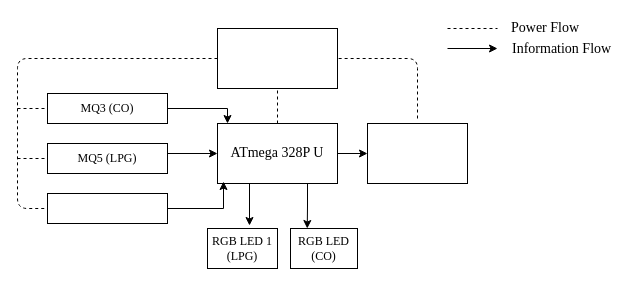
Image size: 638x286. Some labels were removed from this diagram. The shapes that lost their labels are listed below. From the top down, each one's centre as x and y in pixels, then its label:
At (x=277, y=58): "Power Supply (Battery/USB 2.0)".
At (x=417, y=153): "Bluetooth Module".
At (x=107, y=208): "DHT11 (Temp & Humidity)".
